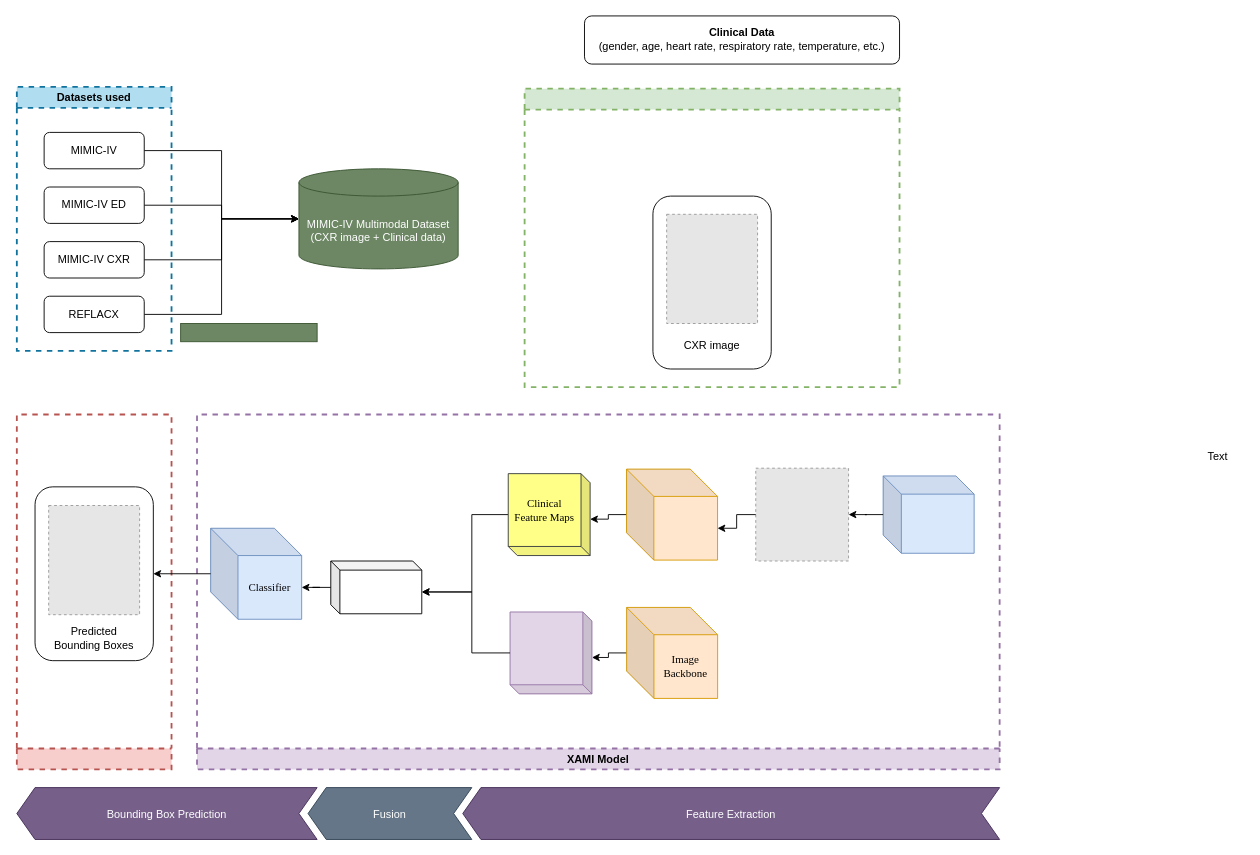
Image size: 1260x855. Some labels were removed from this diagram. Grey dashed boxes stand in for pictures. The shapes that lost their labels are listed below. From the top down, each one's box as (x1, y1, x2, y2) in pixels, then its label:
(523, 87, 900, 388): Model Input
(180, 323, 317, 342): Proposed joining strategy
(626, 468, 718, 560): Clinical Backbone
(882, 475, 974, 553): Spatialisatoin
(15, 413, 172, 770): Model Output
(330, 560, 422, 614): 1-D Fusion & 3-D Fusion
(509, 611, 592, 694): Image Feature Maps
